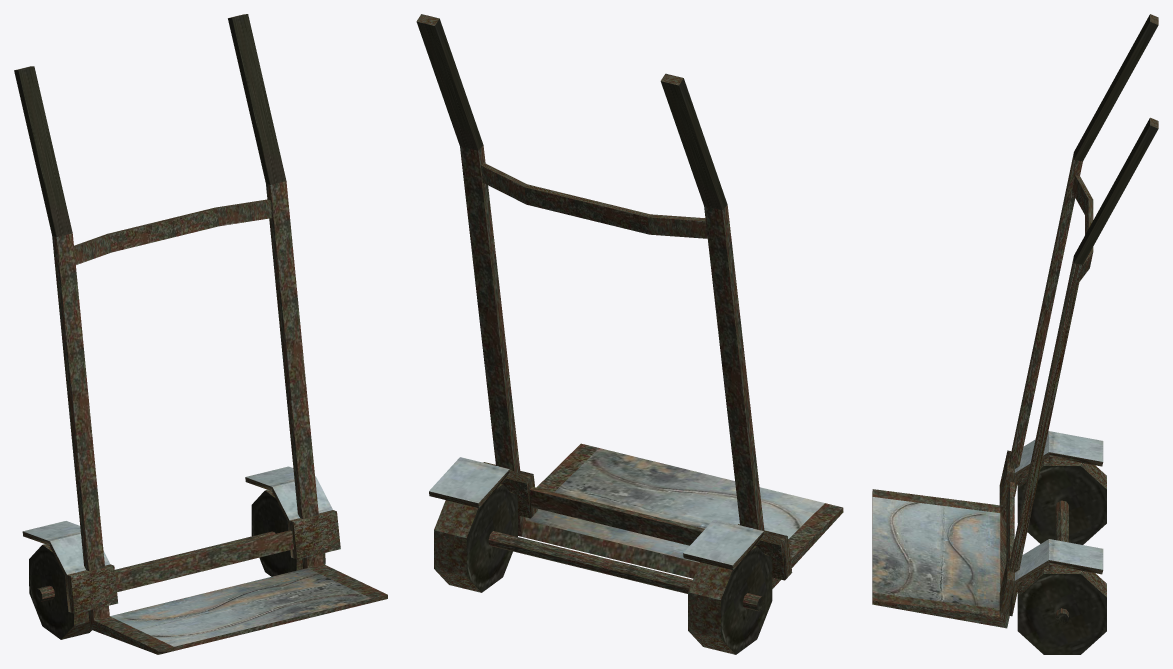
File: hand_trolley_1.fbx
3 renders of one model, left to right at view 1: azimuth 30°, elevation 25°; view 2: azimuth 150°, elevation 25°; view 3: azimuth 270°, elevation 25°, orthographic. The views are drawn at different scales.
Parts seen in each view (by area): view 1: WOZEK; view 2: WOZEK; view 3: WOZEK.
Boxes of the visible parts, left/top/right/bottom form: WOZEK: left=14, top=14, right=387, bottom=654; WOZEK: left=416, top=14, right=843, bottom=654; WOZEK: left=872, top=14, right=1158, bottom=654.
Size of the model in its own units: 32.76 by 60.38 by 29.86.
